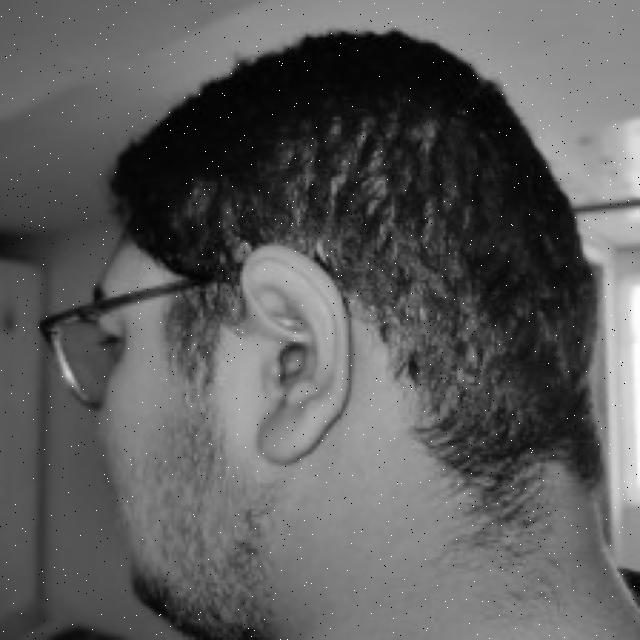ear: (240, 246, 346, 460)
